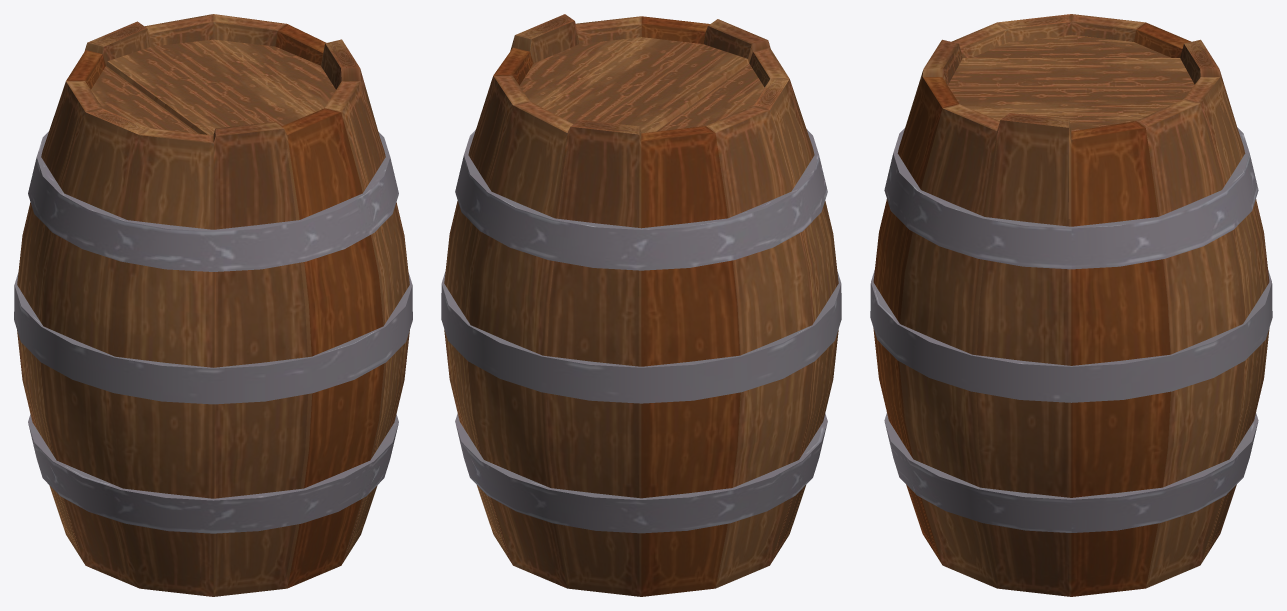
The model's file is Barrel.gltf.
The picture shows the model from 3 angles, left to right: view 1: azimuth 30°, elevation 25°; view 2: azimuth 150°, elevation 25°; view 3: azimuth 270°, elevation 25°; orthographic projection.
Parts seen in each view (by area): view 1: Barrel; view 2: Barrel; view 3: Barrel.
Boxes of the visible parts, bbox=[...] form: Barrel: bbox=[14, 14, 412, 596]; Barrel: bbox=[441, 14, 841, 596]; Barrel: bbox=[870, 14, 1272, 596].
Bounding box in the file's own units: 0.698 × 0.898 × 0.698.
2 materials, 2 textured.
